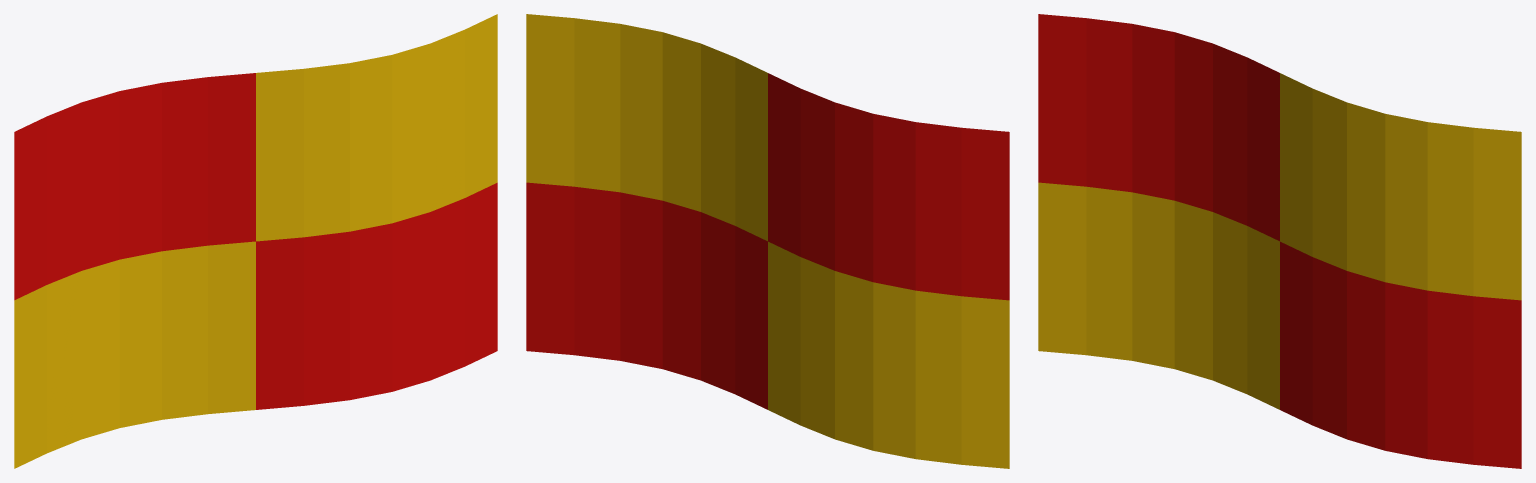
File: corner_flag_quarters.dae
3 renders of one model, left to right at view 1: azimuth 30°, elevation 25°; view 2: azimuth 150°, elevation 25°; view 3: azimuth 330°, elevation 25°, orthographic.
Visible parts, largest first — view 1: surface; view 2: surface; view 3: surface.
Part boxes in pixels (x1=…): surface: x1=14, y1=14, x2=497, y2=468; surface: x1=526, y1=14, x2=1009, y2=468; surface: x1=1038, y1=14, x2=1521, y2=468.
Size of the model in its own units: 0.45 by 0.05 by 0.3.
